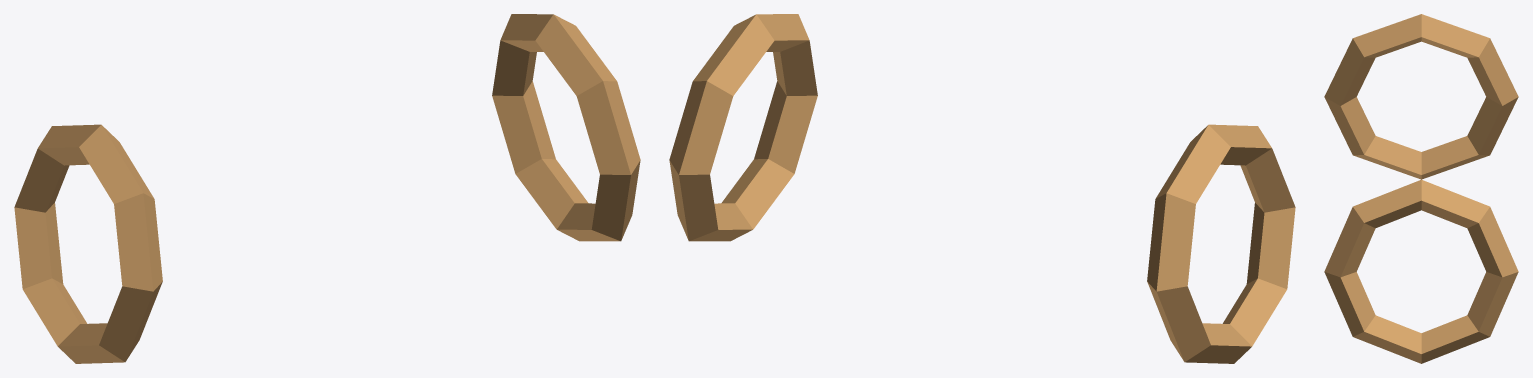
Rendered from SM_Chr_Attach_Earrings_04.fbx.
The picture shows the model from 3 angles, left to right: view 1: azimuth 30°, elevation 25°; view 2: azimuth 150°, elevation 25°; view 3: azimuth 270°, elevation 25°; orthographic projection. The views are drawn at different scales.
Parts seen in each view (by area): view 1: SM_Chr_Attach_Earrings_04; view 2: SM_Chr_Attach_Earrings_04; view 3: SM_Chr_Attach_Earrings_04.
Boxes of the visible parts, x1,y1,x2,y2 form: SM_Chr_Attach_Earrings_04: (14, 14, 640, 363); SM_Chr_Attach_Earrings_04: (669, 14, 1295, 363); SM_Chr_Attach_Earrings_04: (1324, 14, 1518, 363).
Size of the model in its own units: 27.49 by 11.35 by 11.43.
